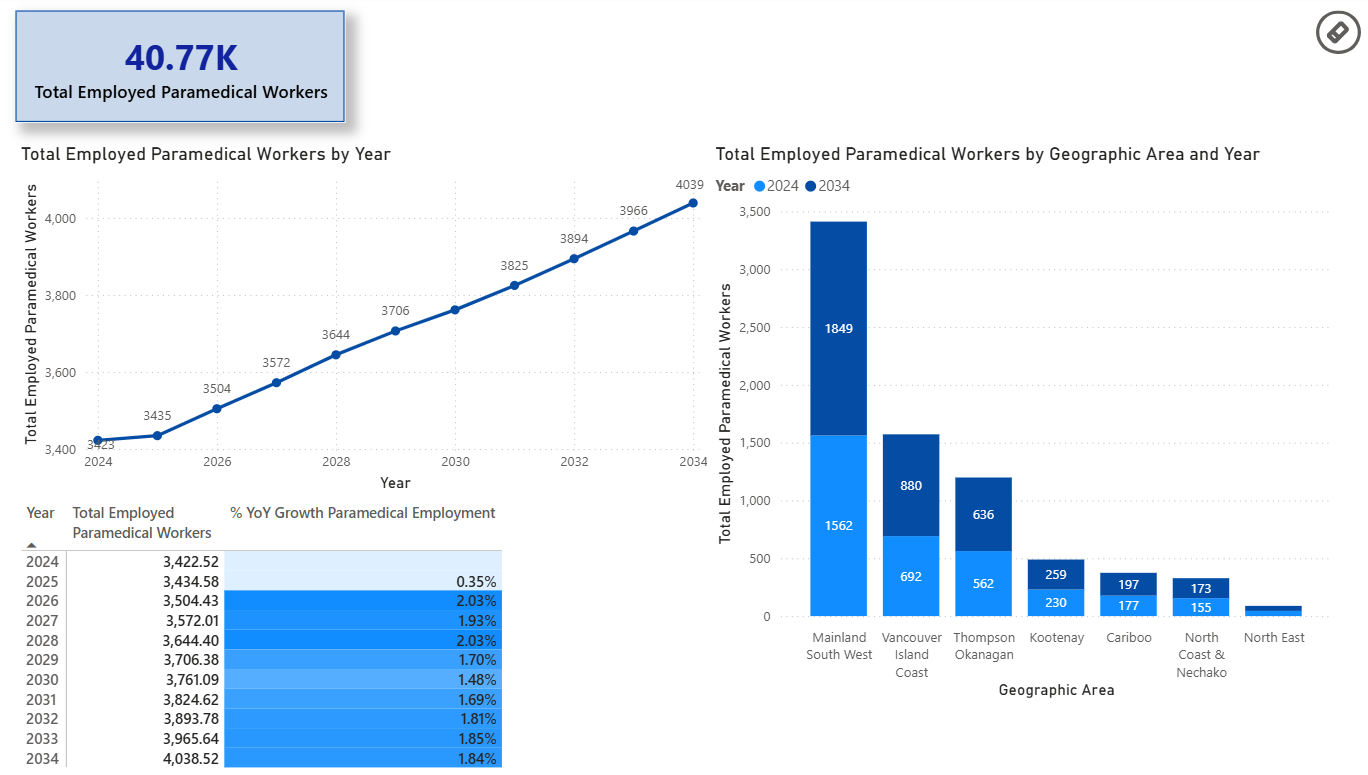

The page's visual inventory and layout, read from the dashboard file:
{"tool":"powerbi","page":{"name":"Labour Outlook - Employment","canvas":[1280,720],"ordinal":3},"visuals":[{"type":"lineChart","fields":{"Category":["Years.Year"],"Y":["Measure Table.Total Employed Paramedical Workers"]},"box":[28.3,136,637.6,323.1],"z":0},{"type":"columnChart","fields":{"Category":["Employment_By_Occupation_BC.Geographic Area"],"Y":["Measure Table.Total Employed Paramedical Workers"],"Series":["Employment_By_Occupation_BC.Year"]},"box":[664.6,136,573.9,512.9],"z":1000},{"type":"image","box":[12.4,0,119.4,135.9],"z":2000},{"type":"cardVisual","fields":{"Data":["Measure Table.Total Employed Paramedical Workers"]},"box":[147.5,16.4,300.9,102.8],"z":3000},{"type":"actionButton","box":[1218.6,15.1,41.2,39.8],"z":4000},{"type":"pivotTable","fields":{"Rows":["Employment_By_Occupation_BC.Year"],"Values":["Measure Table.Total Employed Paramedical Workers","Measure Table.% YoY Growth Paramedical Employment"]},"box":[28.3,459.1,554,260.7],"z":5000}]}

Visuals, with their boxes in screenshot pixels (x1, y1, x2, y2), scaled from the page's 1280x720 canvas onto the 1368x775 screenshot:
lineChart - Years.Year x Measure Table.Total Employed Paramedical Workers: (left=30, top=146, right=712, bottom=494)
columnChart - Employment_By_Occupation_BC.Geographic Area x Measure Table.Total Employed Paramedical Workers: (left=710, top=146, right=1324, bottom=698)
image: (left=13, top=0, right=141, bottom=146)
cardVisual - Measure Table.Total Employed Paramedical Workers: (left=158, top=18, right=479, bottom=128)
actionButton: (left=1302, top=16, right=1346, bottom=59)
pivotTable - Employment_By_Occupation_BC.Year x Measure Table.Total Employed Paramedical Workers: (left=30, top=494, right=622, bottom=774)
